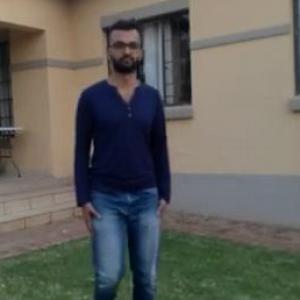follow: (70, 15, 173, 299)
